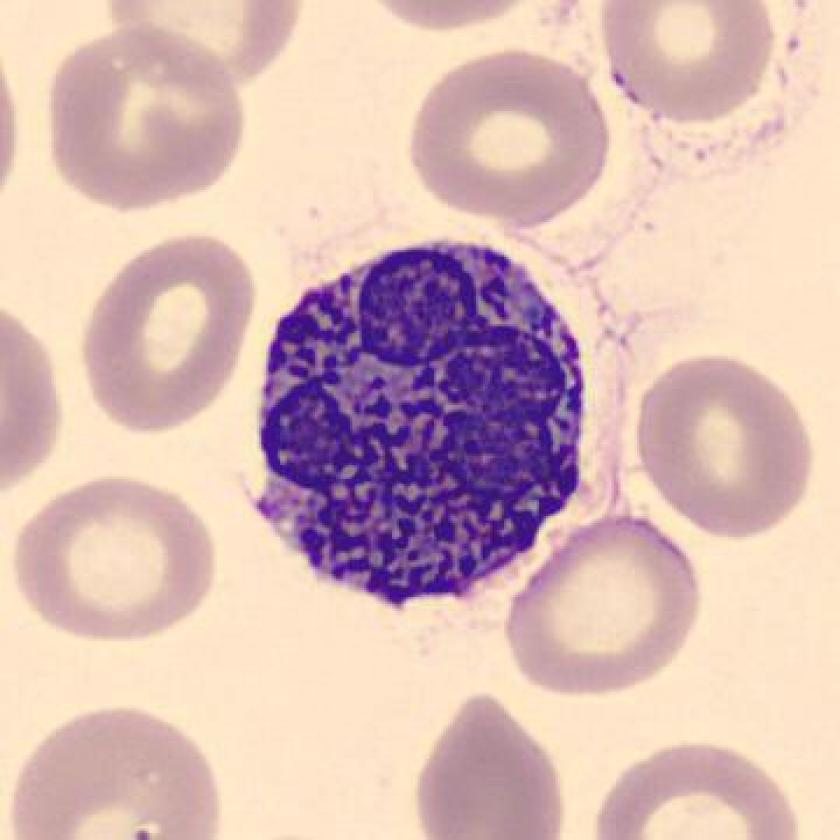basophil: (249, 226, 592, 617)
